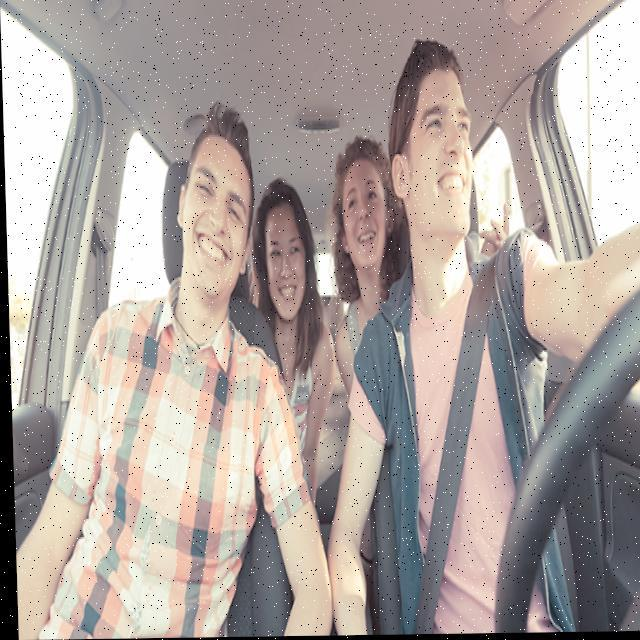noSeatbelt: (41, 252, 287, 640)
seatbelt: (356, 217, 508, 636)
